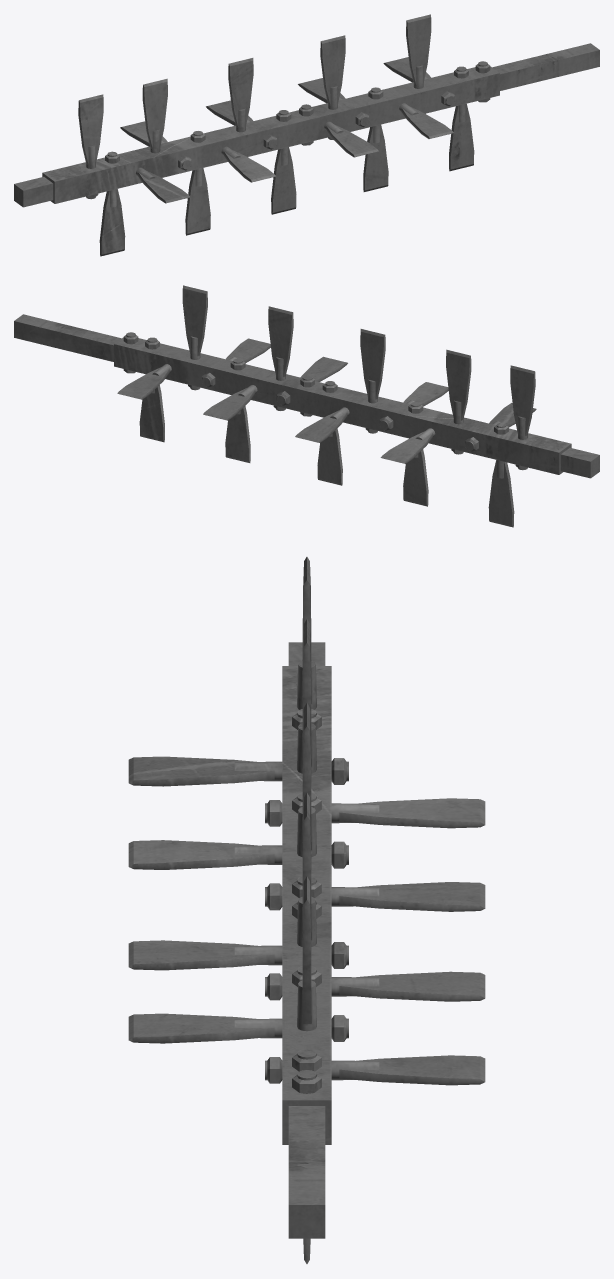
File: PelletMill_ConditionerShaft.gltf
The picture shows the model from 3 angles, top to bottom: view 1: azimuth 30°, elevation 25°; view 2: azimuth 150°, elevation 25°; view 3: azimuth 270°, elevation 25°; orthographic projection. The views are drawn at different scales.
Parts seen in each view (by area): view 1: ConditionerShaft001, ConditionerPaddle005, ConditionerPaddle001, ConditionerPaddle015, ConditionerPaddle009, ConditionerPaddle010, ConditionerPaddle013, ConditionerPaddle003, ConditionerPaddle007, ConditionerPaddle017, ConditionerPaddle011, ConditionerPaddle018 (+7 smaller); view 2: ConditionerShaft001, ConditionerPaddle009, ConditionerPaddle007, ConditionerPaddle013, ConditionerPaddle003, ConditionerPaddle010, ConditionerPaddle017, ConditionerPaddle011, ConditionerPaddle005, ConditionerPaddle001, ConditionerPaddle015, ConditionerPaddle002 (+7 smaller); view 3: ConditionerShaft001, ConditionerPaddle018, ConditionerPaddle014, ConditionerPaddle016, ConditionerPaddle008, ConditionerPaddle006, ConditionerPaddle012, ConditionerPaddle004, ConditionerPaddle002, ConditionerPaddle017, ConditionerPaddle003, ConditionerPaddle007 (+2 smaller).
Part boxes in pixels (bbox=[...]): ConditionerShaft001: bbox=[14, 43, 599, 207]; ConditionerPaddle005: bbox=[185, 131, 210, 235]; ConditionerPaddle001: bbox=[271, 110, 296, 214]; ConditionerPaddle015: bbox=[449, 66, 474, 171]; ConditionerPaddle009: bbox=[99, 151, 125, 256]; ConditionerPaddle010: bbox=[78, 94, 103, 199]; ConditionerPaddle013: bbox=[320, 35, 345, 139]; ConditionerPaddle003: bbox=[228, 58, 253, 157]; ConditionerPaddle007: bbox=[142, 78, 167, 178]; ConditionerPaddle017: bbox=[406, 14, 431, 113]; ConditionerPaddle011: bbox=[363, 87, 388, 191]; ConditionerPaddle018: bbox=[399, 103, 453, 138]; ConditionerShaft001: bbox=[14, 314, 599, 478]; ConditionerPaddle009: bbox=[488, 422, 514, 527]; ConditionerPaddle007: bbox=[446, 349, 471, 454]; ConditionerPaddle013: bbox=[268, 306, 293, 410]; ConditionerPaddle003: bbox=[360, 329, 385, 433]; ConditionerPaddle010: bbox=[510, 365, 535, 470]; ConditionerPaddle017: bbox=[182, 285, 207, 390]; ConditionerPaddle011: bbox=[225, 358, 250, 462]; ConditionerPaddle005: bbox=[403, 402, 428, 506]; ConditionerPaddle001: bbox=[317, 381, 342, 485]; ConditionerPaddle015: bbox=[139, 337, 164, 442]; ConditionerPaddle002: bbox=[295, 407, 349, 442]; ConditionerShaft001: bbox=[282, 642, 331, 1238]; ConditionerPaddle018: bbox=[128, 1013, 348, 1043]; ConditionerPaddle014: bbox=[128, 940, 348, 970]; ConditionerPaddle016: bbox=[265, 1055, 485, 1085]; ConditionerPaddle008: bbox=[128, 756, 348, 786]; ConditionerPaddle006: bbox=[265, 798, 485, 828]; ConditionerPaddle012: bbox=[265, 971, 485, 1001]; ConditionerPaddle004: bbox=[128, 840, 348, 869]; ConditionerPaddle002: bbox=[265, 882, 485, 911]; ConditionerPaddle017: bbox=[297, 876, 316, 1031]; ConditionerPaddle003: bbox=[297, 703, 316, 857]; ConditionerPaddle007: bbox=[297, 619, 316, 773].
Bounding box in the file's own units: 1.37 × 0.3663 × 0.3663.
Materials: 1 (1 with a texture image).
